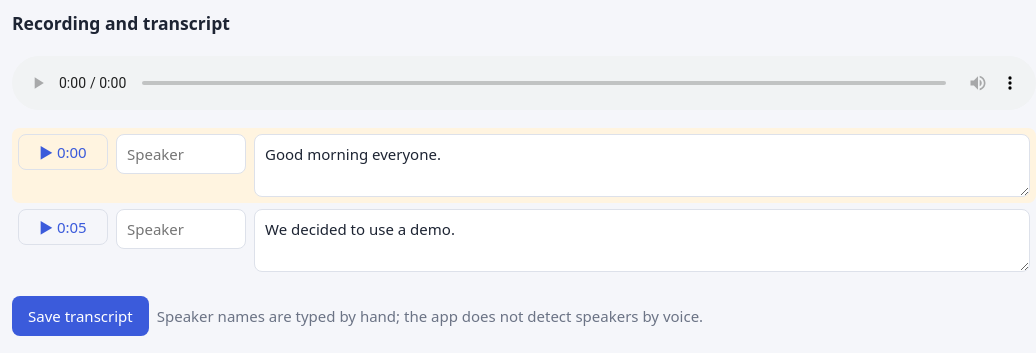
Test: TranscriptPanel › shows segments with times, edits text and speaker, and saves them
Expected: the button "▶ 0:05" is shown, [18,209,108,245]
Replace the text in the text box named "Text of segment 2" with "We decided on a recorded demo." at coordinates (642, 240), box [254,209,1030,272]
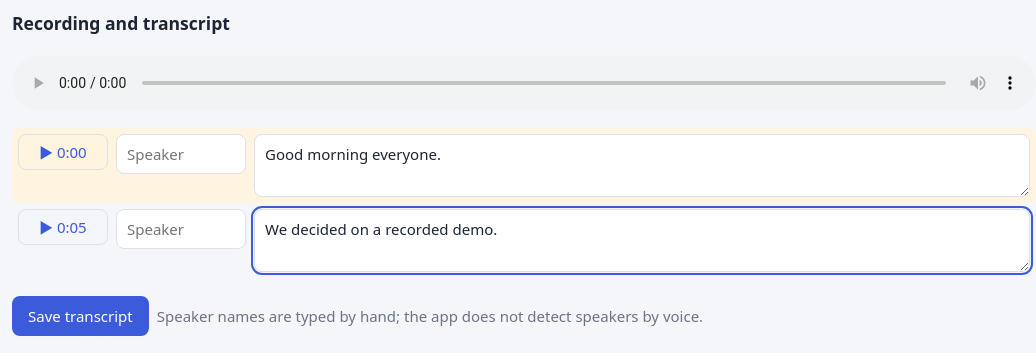
Type "Ravi" into the field named "Speaker for segment 2" at coordinates (181, 229), box [116,209,246,249]
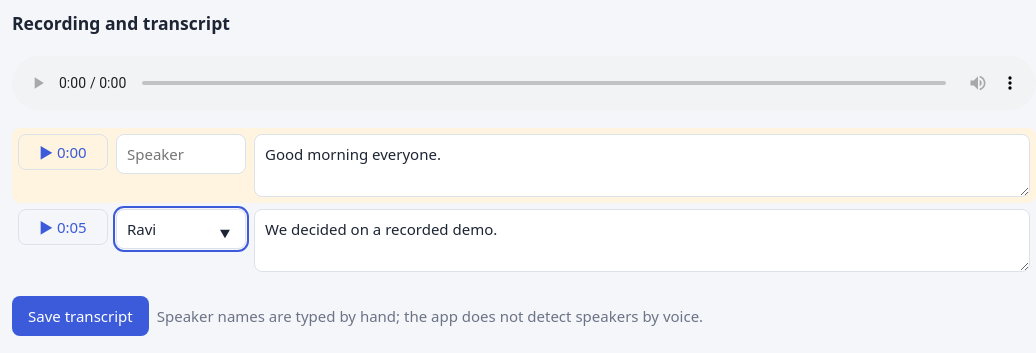
Click the button "Save transcript" at coordinates (80, 316), box [12,296,149,336]
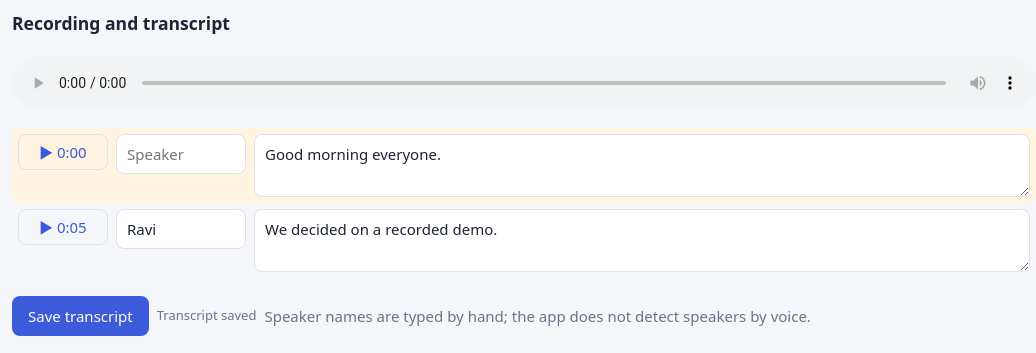
Expected: the text "Transcript saved" is shown, [157,306,256,326]
